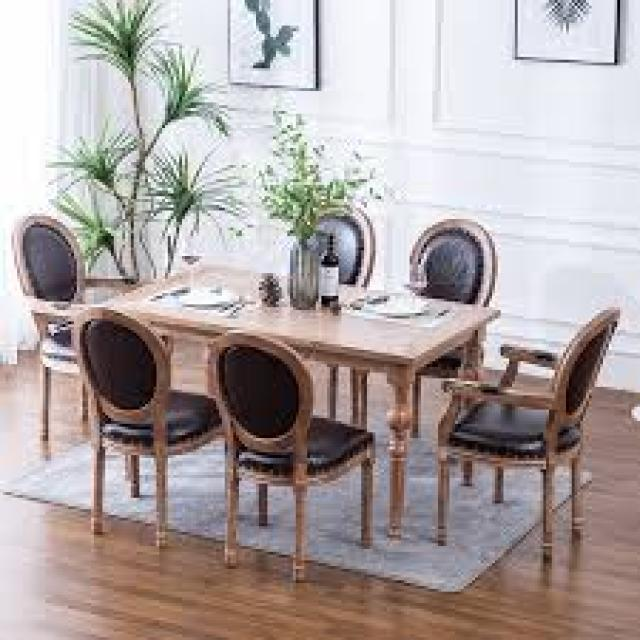table: (13, 200, 614, 590)
